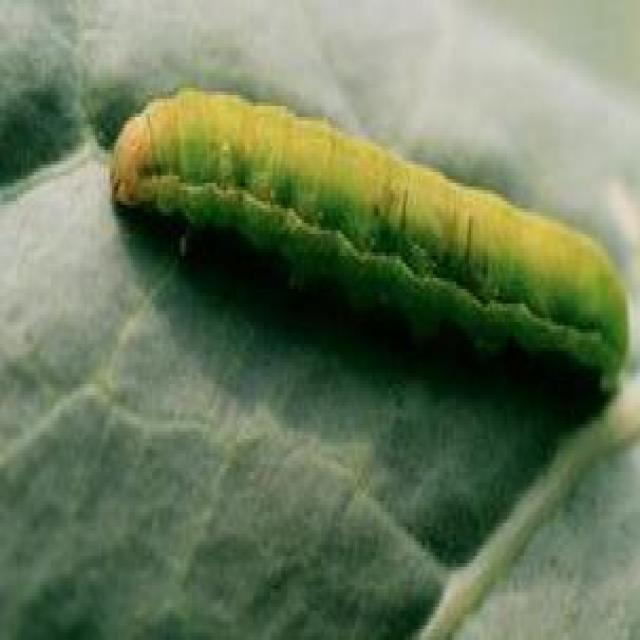BeetArmyWorm-Larva-: (83, 70, 630, 394)
